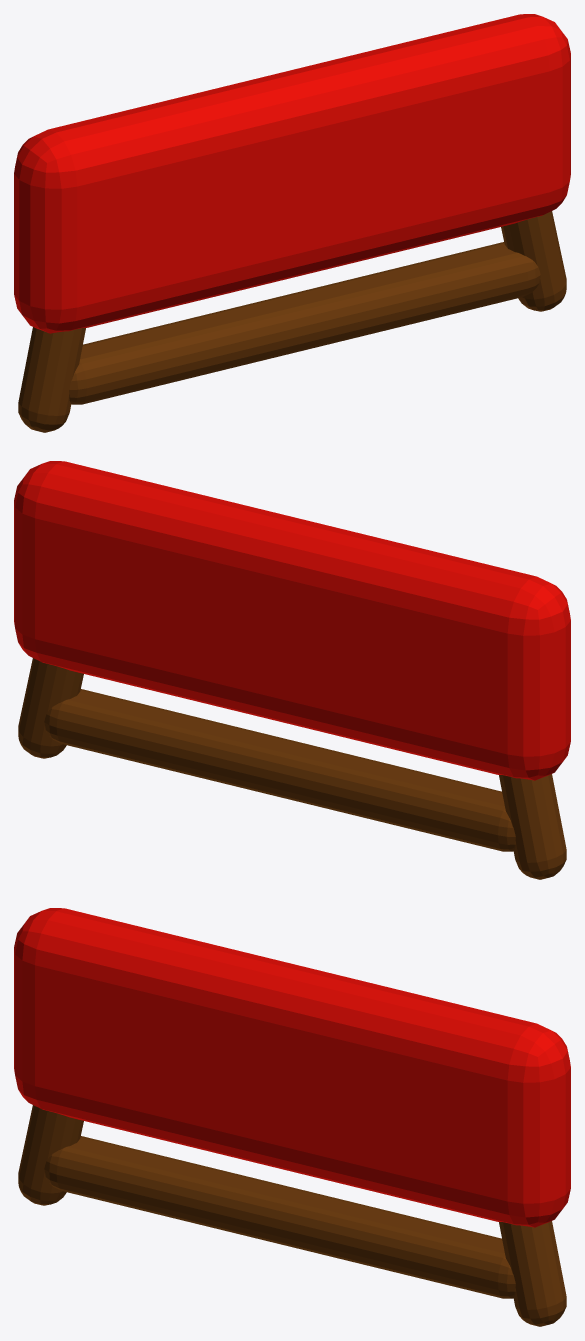
The model's file is JumpBarrier.fbx.
3 views of the same model, one above another, from view 1: azimuth 30°, elevation 25°; view 2: azimuth 150°, elevation 25°; view 3: azimuth 330°, elevation 25° (orthographic).
Visible parts, largest first — view 1: JumpBarrier_Top, Cube, BarrierLog_Left, BarrierLog_Left.001; view 2: JumpBarrier_Top, Cube, BarrierLog_Left, BarrierLog_Left.001; view 3: JumpBarrier_Top, Cube, BarrierLog_Left.001, BarrierLog_Left.
Part boxes in pixels (bbox=[...]): JumpBarrier_Top: bbox=[14, 14, 570, 333]; Cube: bbox=[69, 242, 540, 404]; BarrierLog_Left: bbox=[18, 327, 85, 432]; BarrierLog_Left.001: bbox=[501, 211, 566, 311]; JumpBarrier_Top: bbox=[14, 461, 570, 780]; Cube: bbox=[44, 689, 515, 851]; BarrierLog_Left: bbox=[499, 774, 566, 879]; BarrierLog_Left.001: bbox=[18, 658, 83, 758]; JumpBarrier_Top: bbox=[14, 908, 570, 1227]; Cube: bbox=[44, 1136, 515, 1298]; BarrierLog_Left.001: bbox=[499, 1221, 566, 1326]; BarrierLog_Left: bbox=[18, 1105, 83, 1205].
Bounding box in the file's own units: 260 × 134 × 35.
